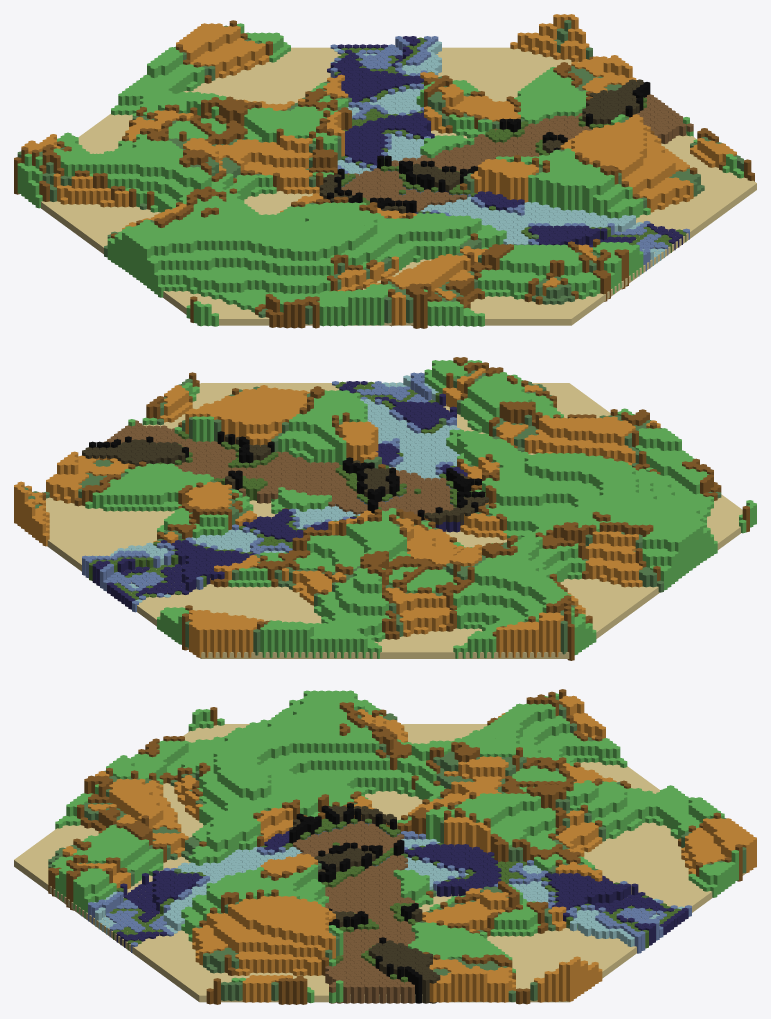
Rendered from 0035_tile_1222010.fbx.
3 renders of one model, top to bottom at view 1: azimuth 30°, elevation 25°; view 2: azimuth 150°, elevation 25°; view 3: azimuth 270°, elevation 25°, orthographic.
Visible parts, largest first — view 1: Plane; view 2: Plane; view 3: Plane.
Part boxes in pixels (x1=…): Plane: x1=14, y1=14, x2=756, y2=328; Plane: x1=14, y1=357, x2=756, y2=660; Plane: x1=14, y1=689, x2=756, y2=1004.
Bounding box in the file's own units: 1008 × 76.53 × 1152.
